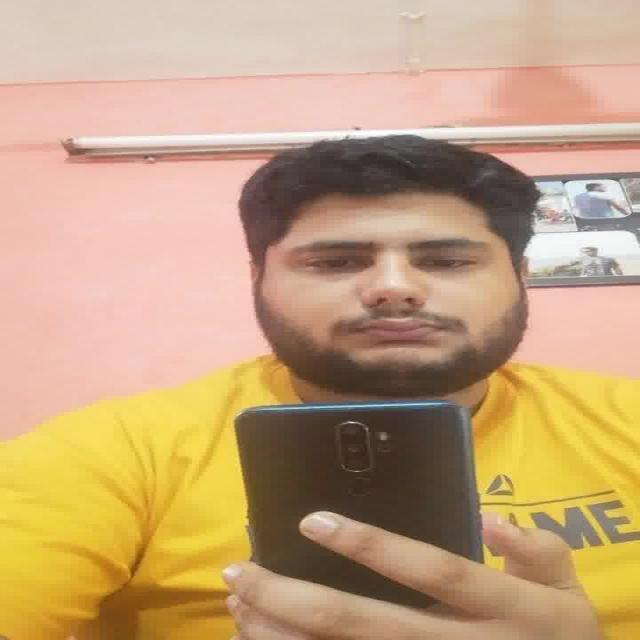Phone: (232, 401, 485, 614)
